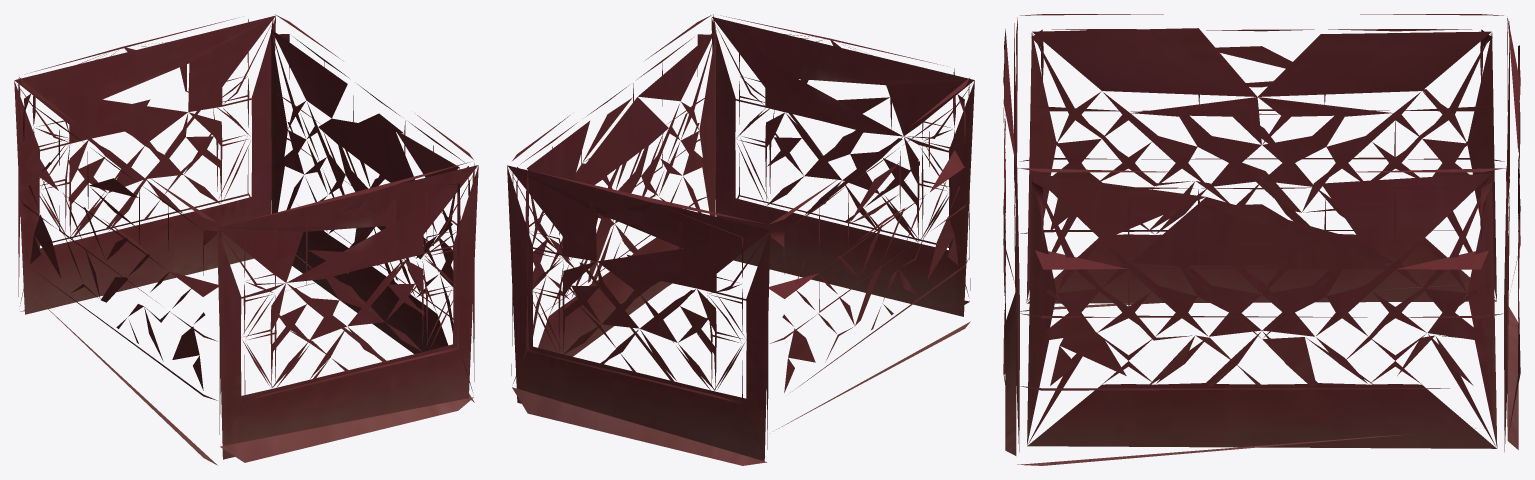
The model's file is crate.glb.
3 renders of one model, left to right at view 1: azimuth 30°, elevation 25°; view 2: azimuth 150°, elevation 25°; view 3: azimuth 270°, elevation 25°, orthographic. The views are drawn at different scales.
Visible parts, largest first — view 1: plastic_crate_01; view 2: plastic_crate_01; view 3: plastic_crate_01.
Part boxes in pixels (x1,y1,x2,y2): plastic_crate_01: (14, 14, 478, 465); plastic_crate_01: (507, 14, 974, 465); plastic_crate_01: (1003, 14, 1520, 465).
Bounding box in the file's own units: 0.299 × 0.261 × 0.4122.
Materials: 1 (1 with a texture image).
